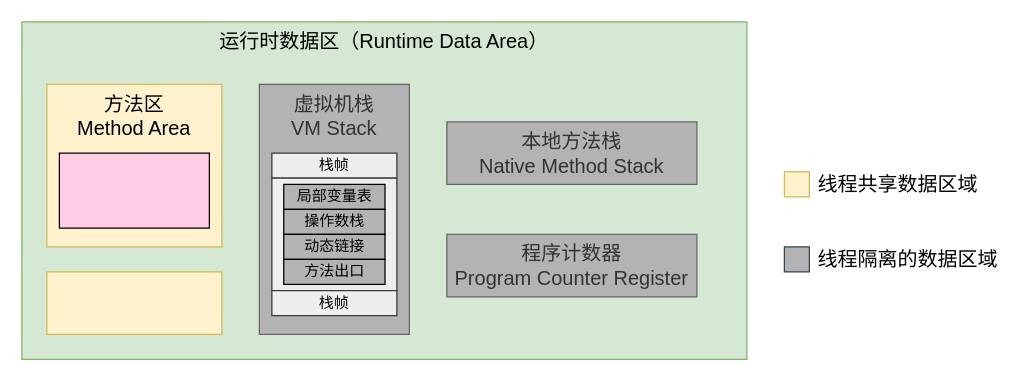
The diagram is 1020 pixels wide and 381 high, and some of its shapes have lost their labels. The centre of each missing label's shape, as x and y in pixels:
堆 Heap: the point at 134,302
常量池 ConstantPool: the point at 133,190
